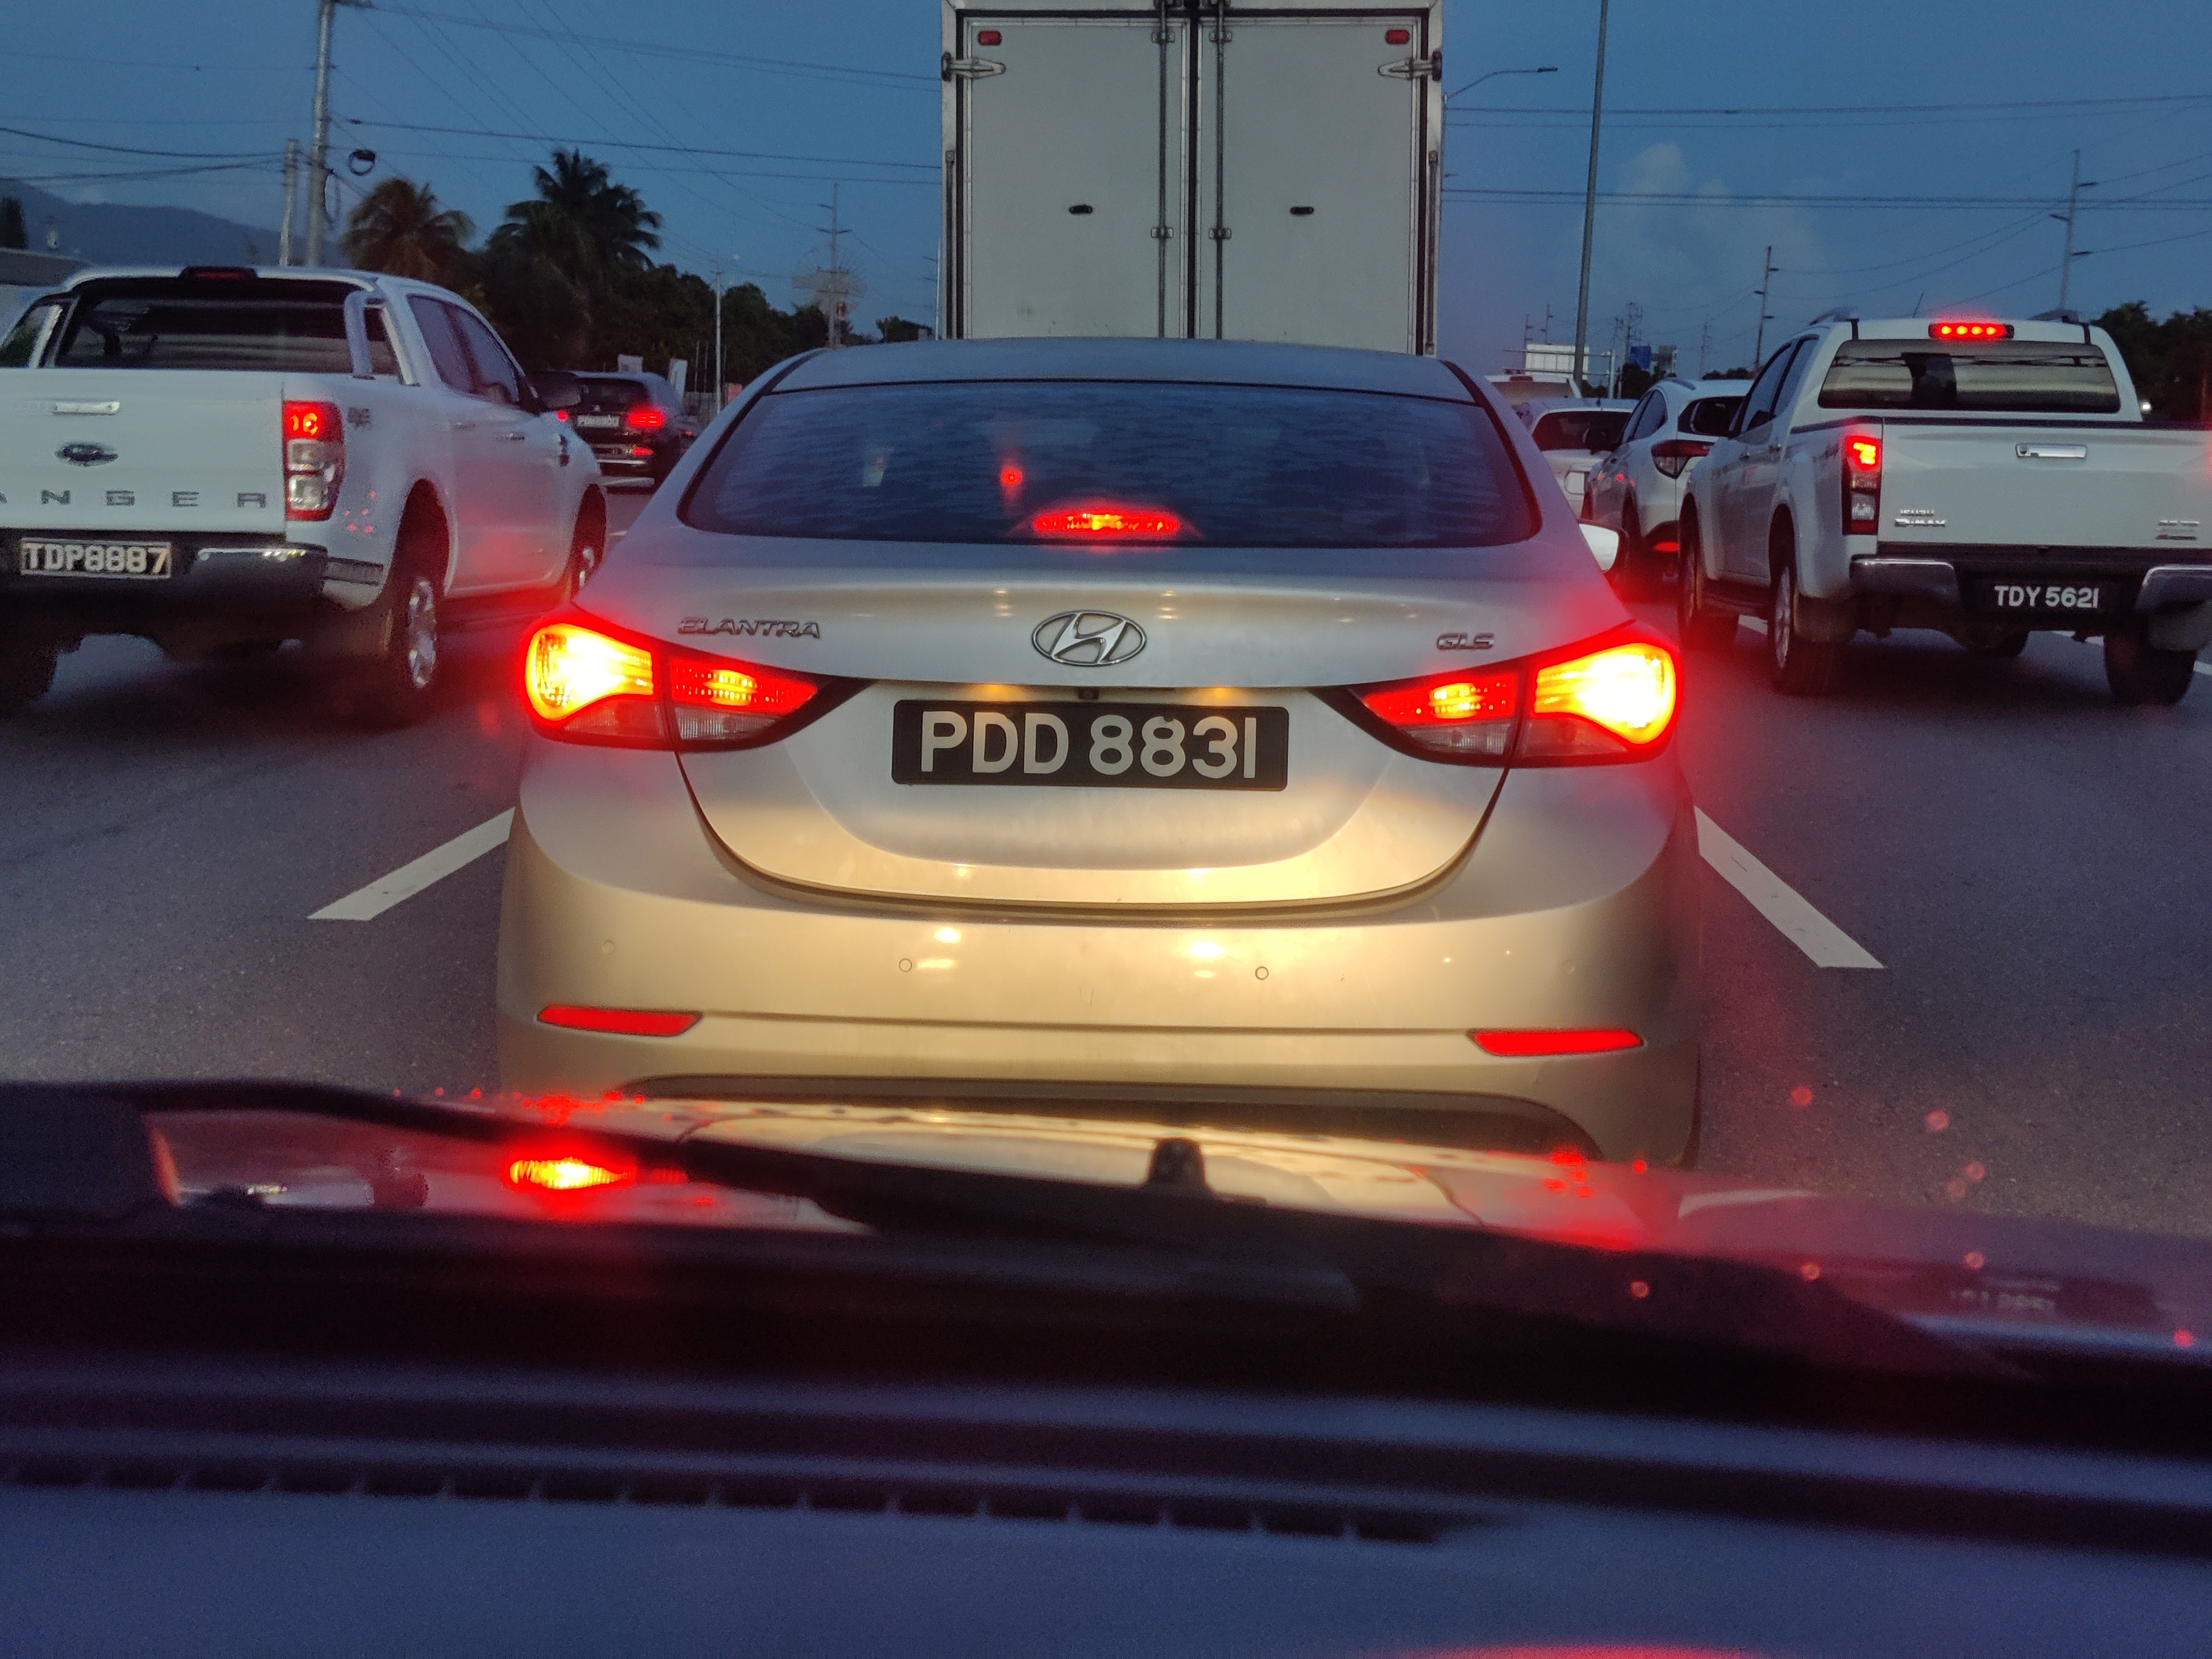License-Plate: (896, 701, 1285, 780), (19, 540, 170, 574), (1983, 580, 2110, 606)
